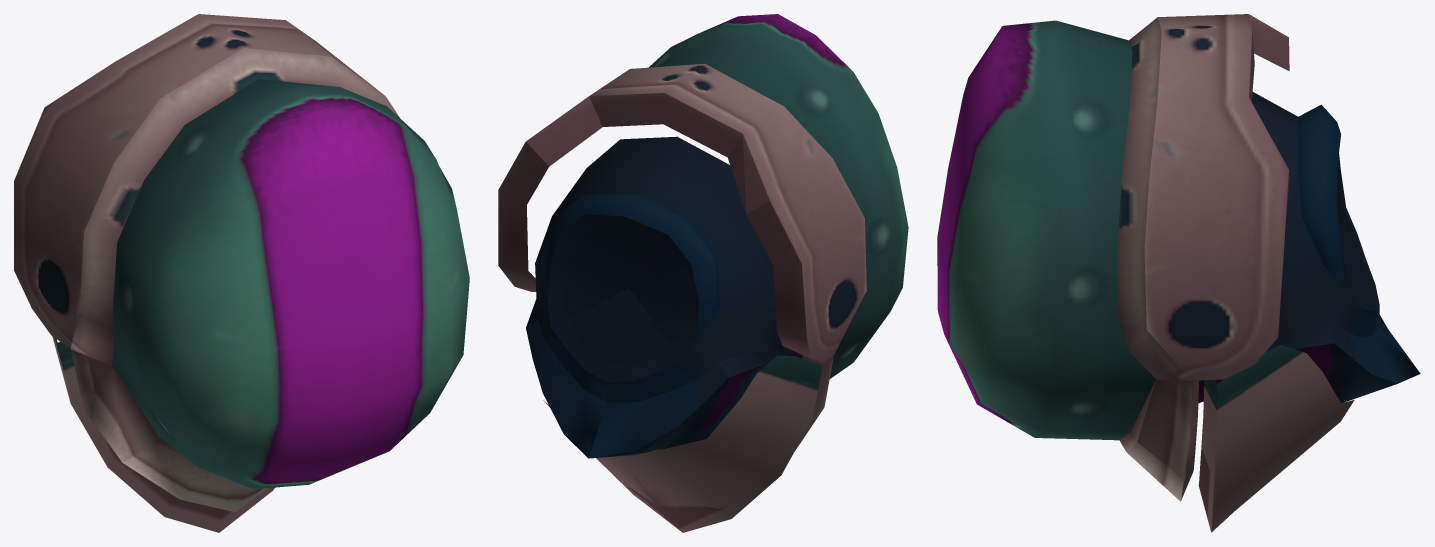
Rendered from Ranger Helm.glb.
3 renders of one model, left to right at view 1: azimuth 30°, elevation 25°; view 2: azimuth 150°, elevation 25°; view 3: azimuth 270°, elevation 25°, orthographic. The views are drawn at different scales.
Visible parts, largest first — view 1: ranger.model-MeshSets[mesh_ranger_1].Mesh[0], ranger.model-MeshSets[mesh_ranger_3].Mesh[0]; view 2: ranger.model-MeshSets[mesh_ranger_1].Mesh[0], ranger.model-MeshSets[mesh_ranger_2].Mesh[0], ranger.model-MeshSets[mesh_ranger_3].Mesh[0]; view 3: ranger.model-MeshSets[mesh_ranger_1].Mesh[0], ranger.model-MeshSets[mesh_ranger_3].Mesh[0], ranger.model-MeshSets[mesh_ranger_2].Mesh[0].
Part boxes in pixels (x1,y1,x2,y2): ranger.model-MeshSets[mesh_ranger_1].Mesh[0]: [14, 14, 469, 489]; ranger.model-MeshSets[mesh_ranger_3].Mesh[0]: [52, 336, 274, 532]; ranger.model-MeshSets[mesh_ranger_1].Mesh[0]: [498, 14, 908, 450]; ranger.model-MeshSets[mesh_ranger_2].Mesh[0]: [526, 107, 783, 458]; ranger.model-MeshSets[mesh_ranger_3].Mesh[0]: [543, 355, 822, 532]; ranger.model-MeshSets[mesh_ranger_1].Mesh[0]: [937, 14, 1379, 479]; ranger.model-MeshSets[mesh_ranger_3].Mesh[0]: [1127, 344, 1354, 532]; ranger.model-MeshSets[mesh_ranger_2].Mesh[0]: [1280, 266, 1420, 403].
Size of the model in its own units: 0.4925 by 0.6902 by 0.6012.
1 material, 1 textured.
